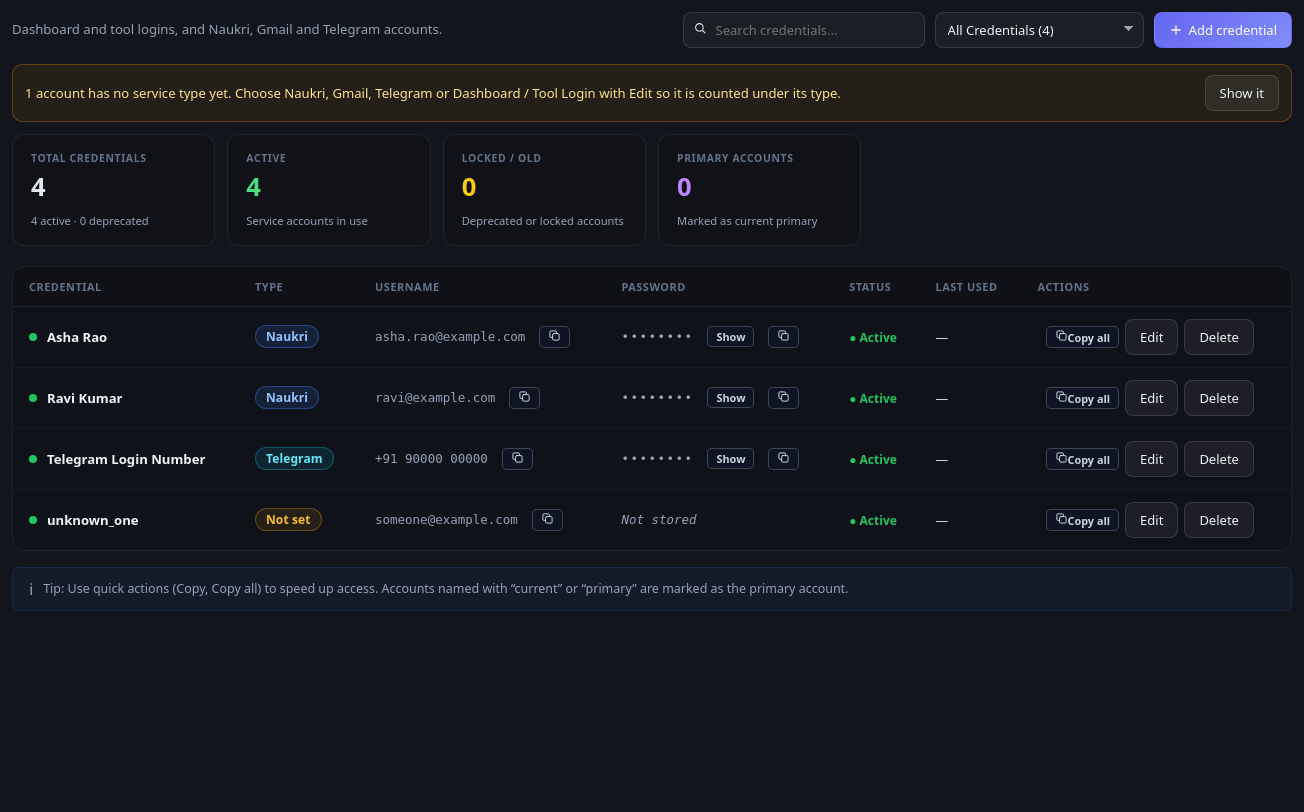
the Account type filter › explains an empty Gmail list: a Naukri login on a Gmail address is Naukri
This screenshot has width=1304, height=812.
Select "Gmail (0)" in the dropdown named "Credential type" at (1039, 30), box top-left (935, 12), bottom-right (1144, 48)
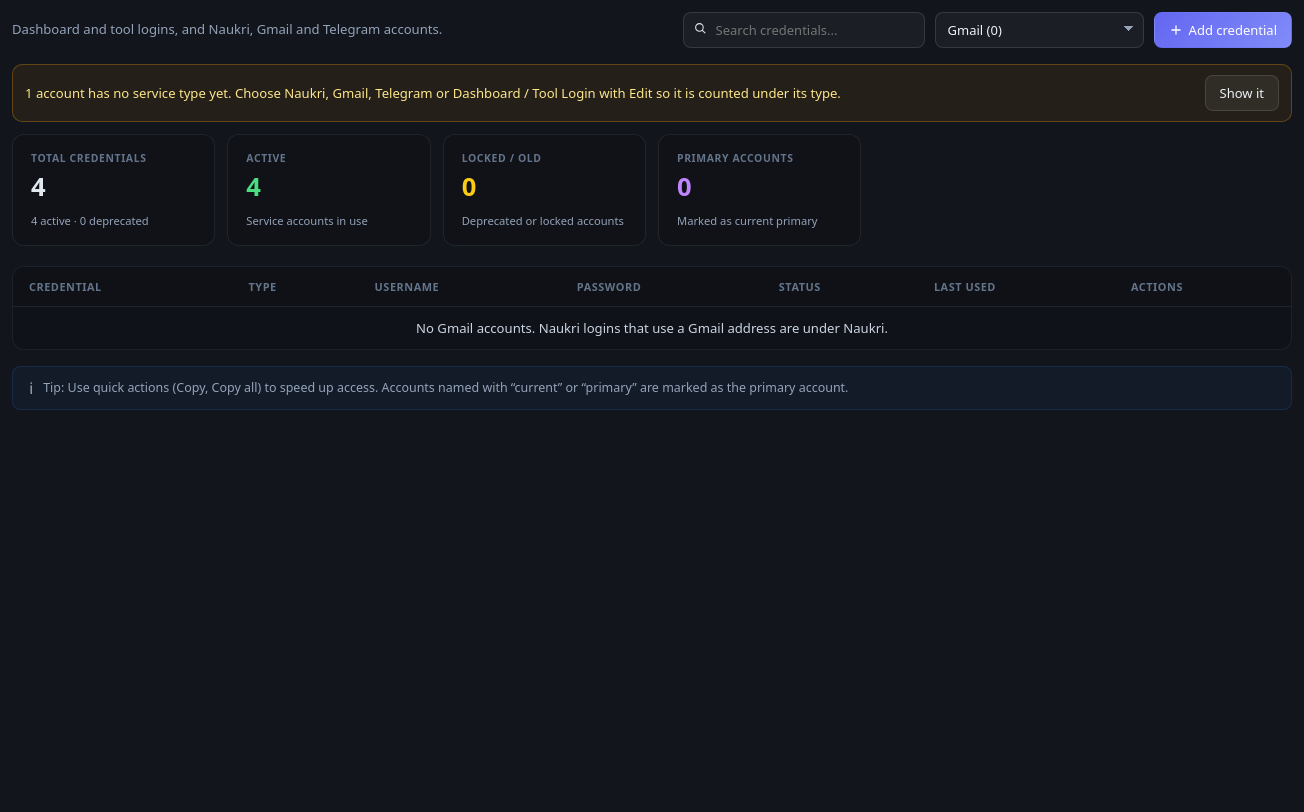
Expected: the text "No Gmail accounts. Naukri logins that use a Gmail address are under Naukri." is shown, top-left (13, 306), bottom-right (1291, 349)
